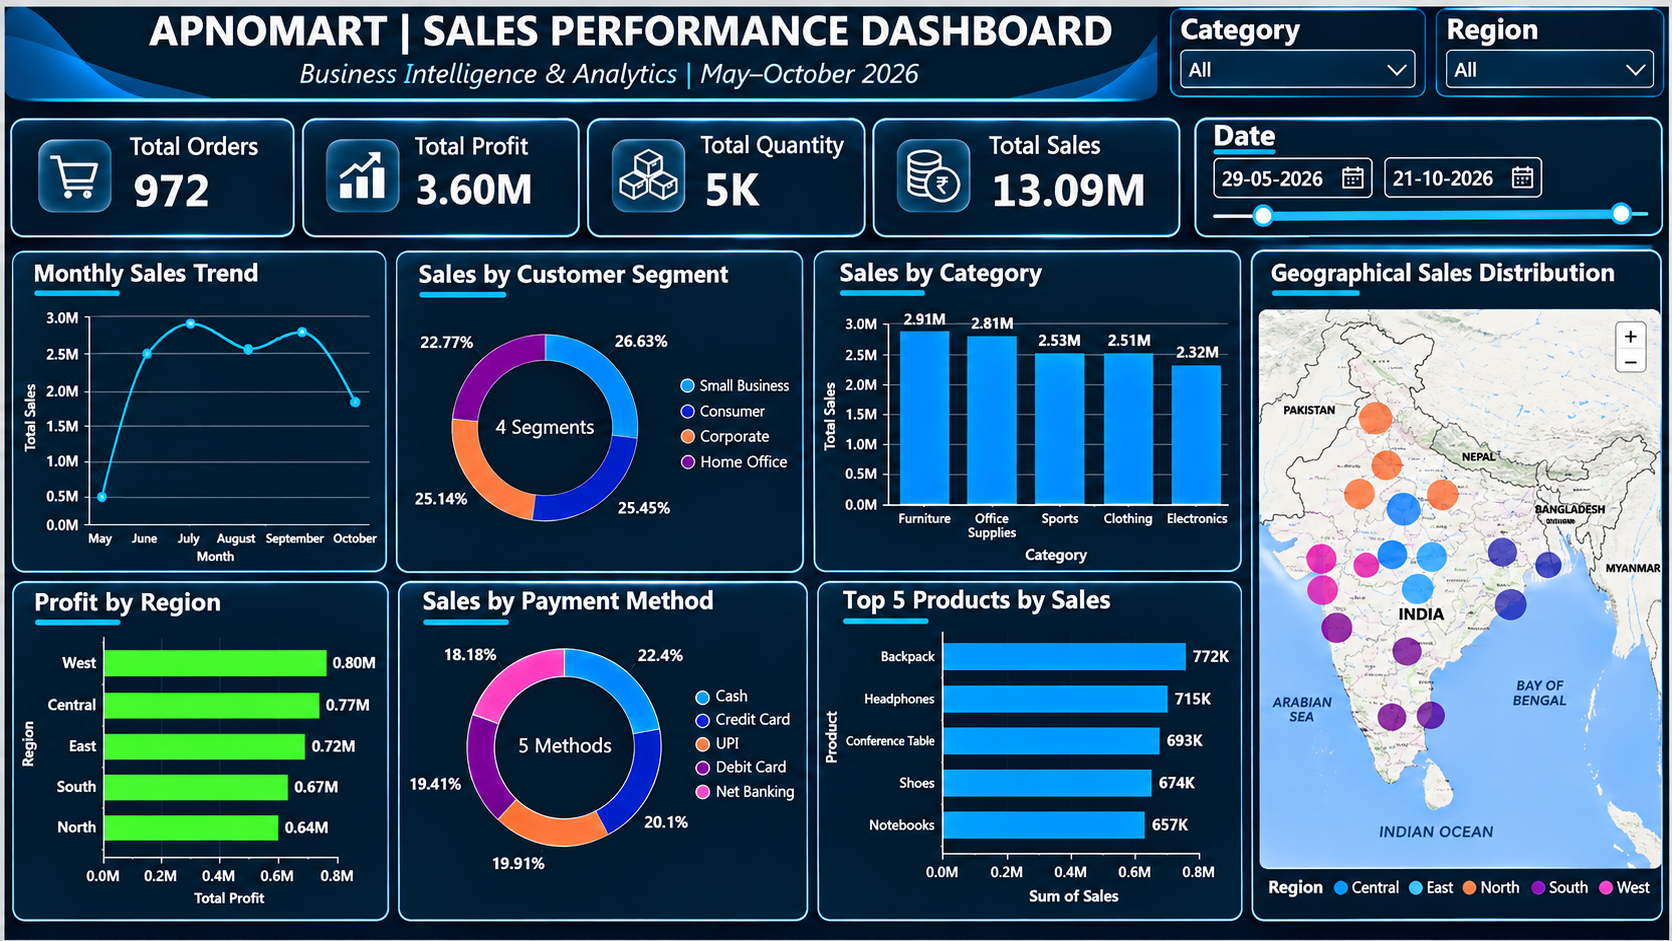

This screenshot's page, from the dashboard's own definition file:
{"tool":"powerbi","page":{"name":"Page 1","canvas":[3840,2160],"ordinal":0},"visuals":[{"type":"cardVisual","fields":{"Data":["SalesData.Total Sales"]},"box":[1995.4,237.2,626.1,242.1],"z":0},{"type":"cardVisual","fields":{"Data":["SalesData.Total Orders"]},"box":[0,233.7,626.1,242.1],"z":1000},{"type":"cardVisual","fields":{"Data":["SalesData.Total Quantity"]},"box":[1332.6,233.7,626.1,242.1],"z":2000},{"type":"cardVisual","fields":{"Data":["SalesData.Total Profit"]},"box":[667.8,233.7,626.1,242.1],"z":3000},{"type":"textbox","box":[0,0,2487.7,179.5],"z":4000},{"type":"clusteredColumnChart","title":"Sales by Category","fields":{"Category":["SalesData.Category"],"Y":["SalesData.Total Sales"]},"box":[1841.9,523.3,969.8,784.9],"z":5000},{"type":"lineChart","title":"Monthly Sales Trend","fields":{"Category":["DateTable.Date.Variation.Date Hierarchy.Year","DateTable.Date.Variation.Date Hierarchy.Quarter","DateTable.Date.Variation.Date Hierarchy.Month","DateTable.Date.Variation.Date Hierarchy.Day"],"Y":["SalesData.Total Sales"]},"box":[0,519.8,833.7,788.4],"z":6000},{"type":"clusteredBarChart","title":"Profit by Region","fields":{"Category":["SalesData.Region"],"Y":["SalesData.Total Profit"]},"box":[0,1343,833.7,816.3],"z":7000},{"type":"slicer","fields":{"Values":["SalesData.Region"]},"box":[3226.8,0,614,177.9],"z":8000},{"type":"slicer","fields":{"Values":["SalesData.Category"]},"box":[2544.1,0,617.5,181.1],"z":9000},{"type":"slicer","fields":{"Values":["DateTable.Date"]},"box":[2661.6,233.7,1179.1,244.2],"z":10000},{"type":"donutChart","title":"Sales by Customer Segment","fields":{"Category":["SalesData.Customer_Segment"],"Y":["Sum(SalesData.Sales)"]},"box":[861.6,523.3,941.9,784.9],"z":11000},{"type":"clusteredBarChart","title":"Top 5 Products by Sales","fields":{"Category":["SalesData.Product"],"Y":["Sum(SalesData.Sales)"]},"box":[1841.9,1343,969.8,816.3],"z":12000},{"type":"map","title":"Geographical Sales Distribution","fields":{"Category":["SalesData.City"],"Series":["SalesData.Region"],"Size":["Sum(SalesData.Sales)"]},"box":[2853.5,523.3,987.2,1636.1],"z":13000},{"type":"donutChart","title":"Sales by Payment Method","fields":{"Category":["SalesData.Payment_Method"],"Y":["Sum(SalesData.Sales)"]},"box":[862,1343,942,816],"z":13001}]}

Visuals, with their boxes in screenshot pixels (x1, y1, x2, y2), scaled from the page's 3840x2160 canvas onto the 1672x941 screenshot:
cardVisual - SalesData.Total Sales: (869,103,1141,209)
cardVisual - SalesData.Total Orders: (0,102,273,207)
cardVisual - SalesData.Total Quantity: (580,102,853,207)
cardVisual - SalesData.Total Profit: (291,102,563,207)
textbox: (0,0,1083,78)
"Sales by Category" clusteredColumnChart: (802,228,1224,570)
"Monthly Sales Trend" lineChart: (0,226,363,570)
"Profit by Region" clusteredBarChart: (0,585,363,940)
slicer - SalesData.Region: (1405,0,1671,78)
slicer - SalesData.Category: (1108,0,1377,79)
slicer - DateTable.Date: (1159,102,1671,208)
"Sales by Customer Segment" donutChart: (375,228,785,570)
"Top 5 Products by Sales" clusteredBarChart: (802,585,1224,940)
"Geographical Sales Distribution" map: (1242,228,1671,940)
"Sales by Payment Method" donutChart: (375,585,785,940)
